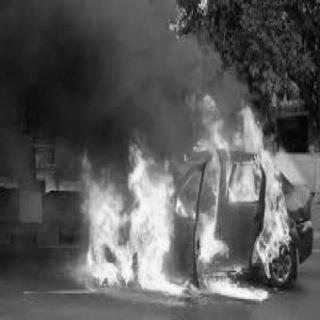Fire: (77, 93, 291, 301)
